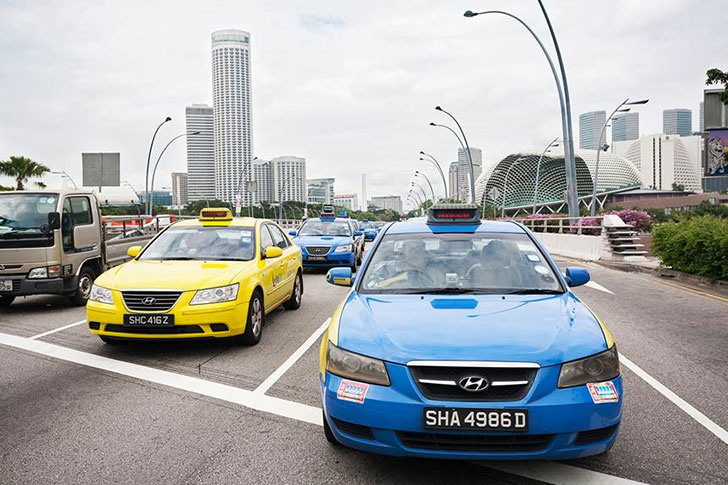car: (299, 203, 636, 477), (84, 196, 314, 362)
